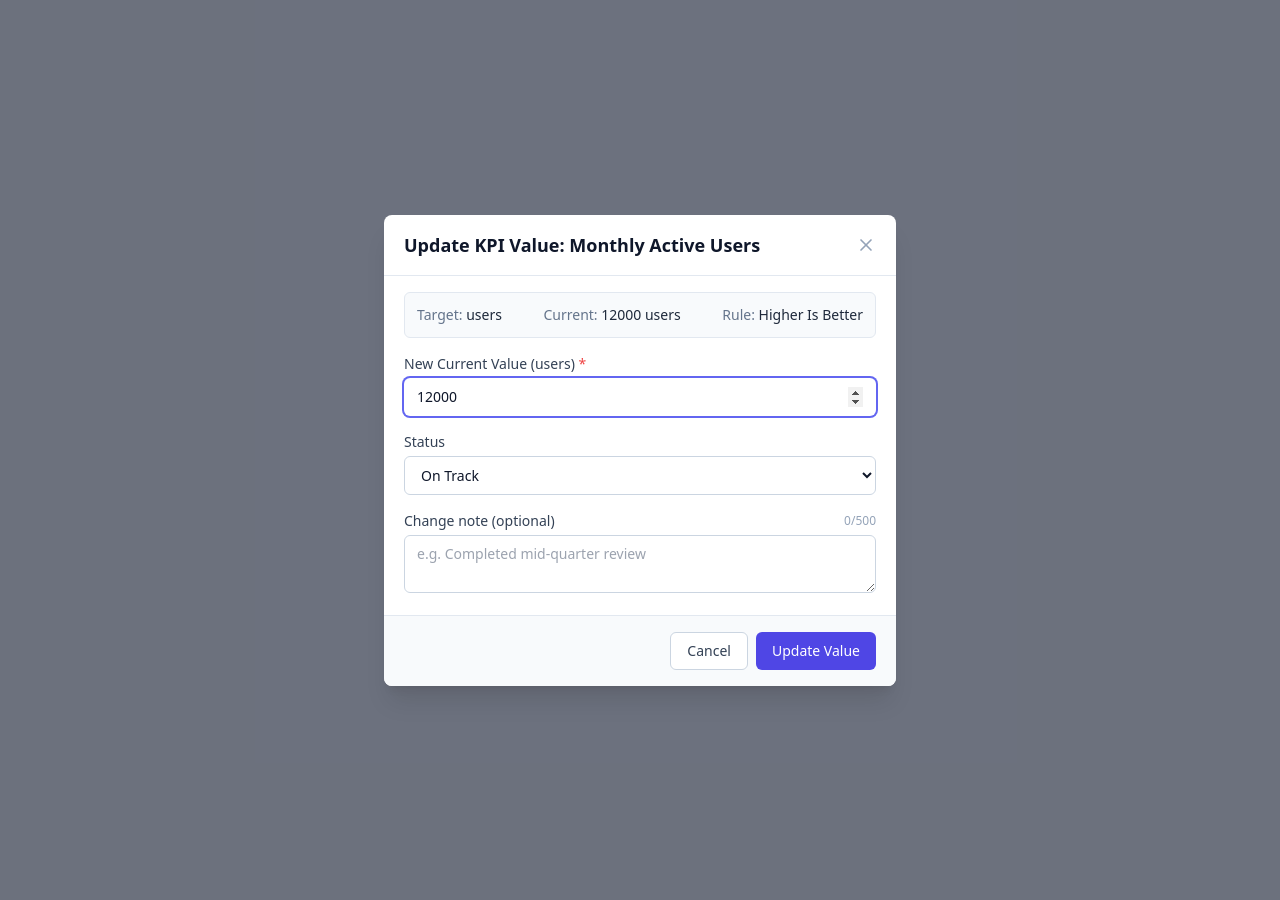
it: Department and KPI Modals › QuickValueModal › validates non-negative number input
Replace the text in the number field labelled "New Current Value (users) *" with "-15". click: (640, 396)
box: [404,378,876,416]
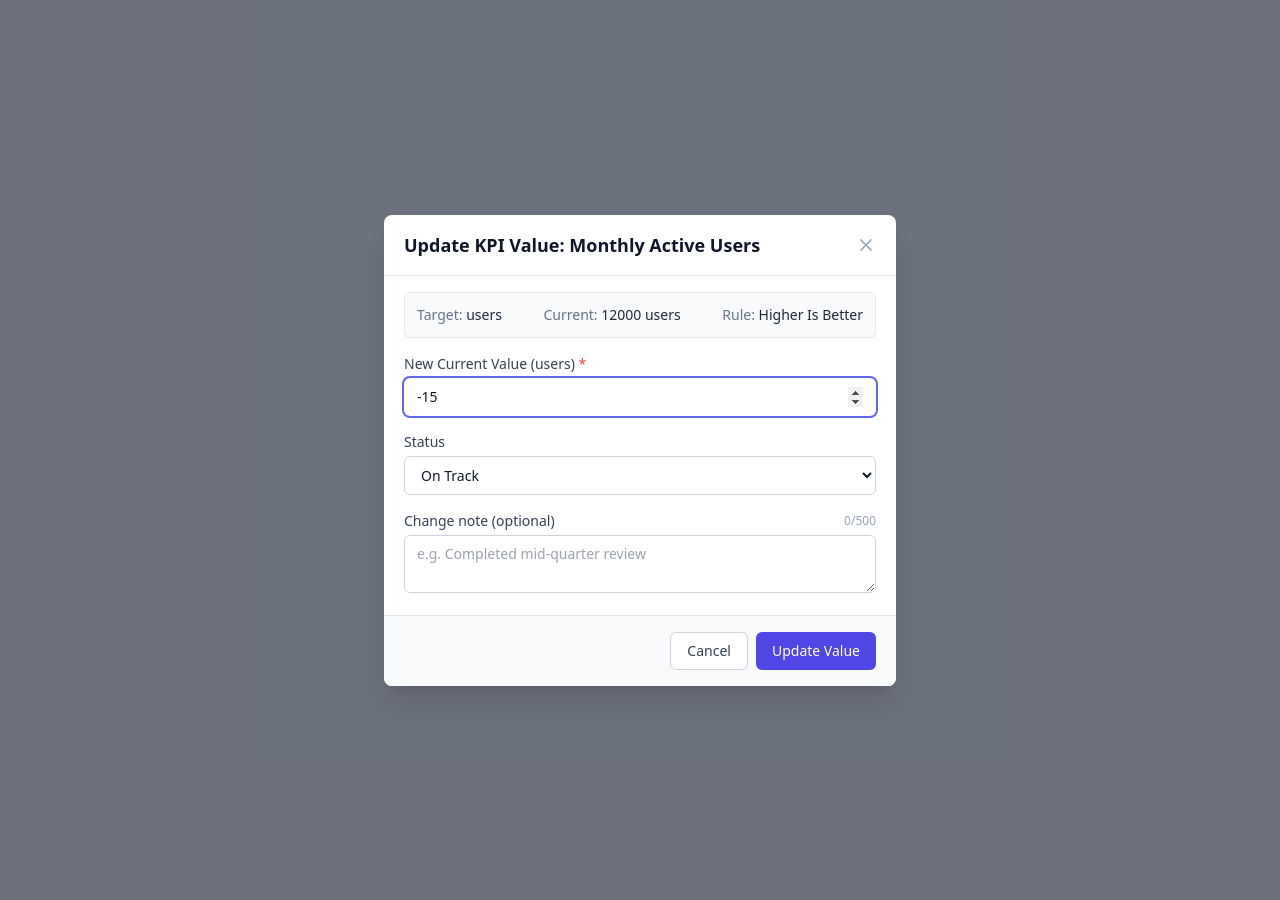
Click the button "Update Value". click: (816, 650)
box: [756,632,876,670]
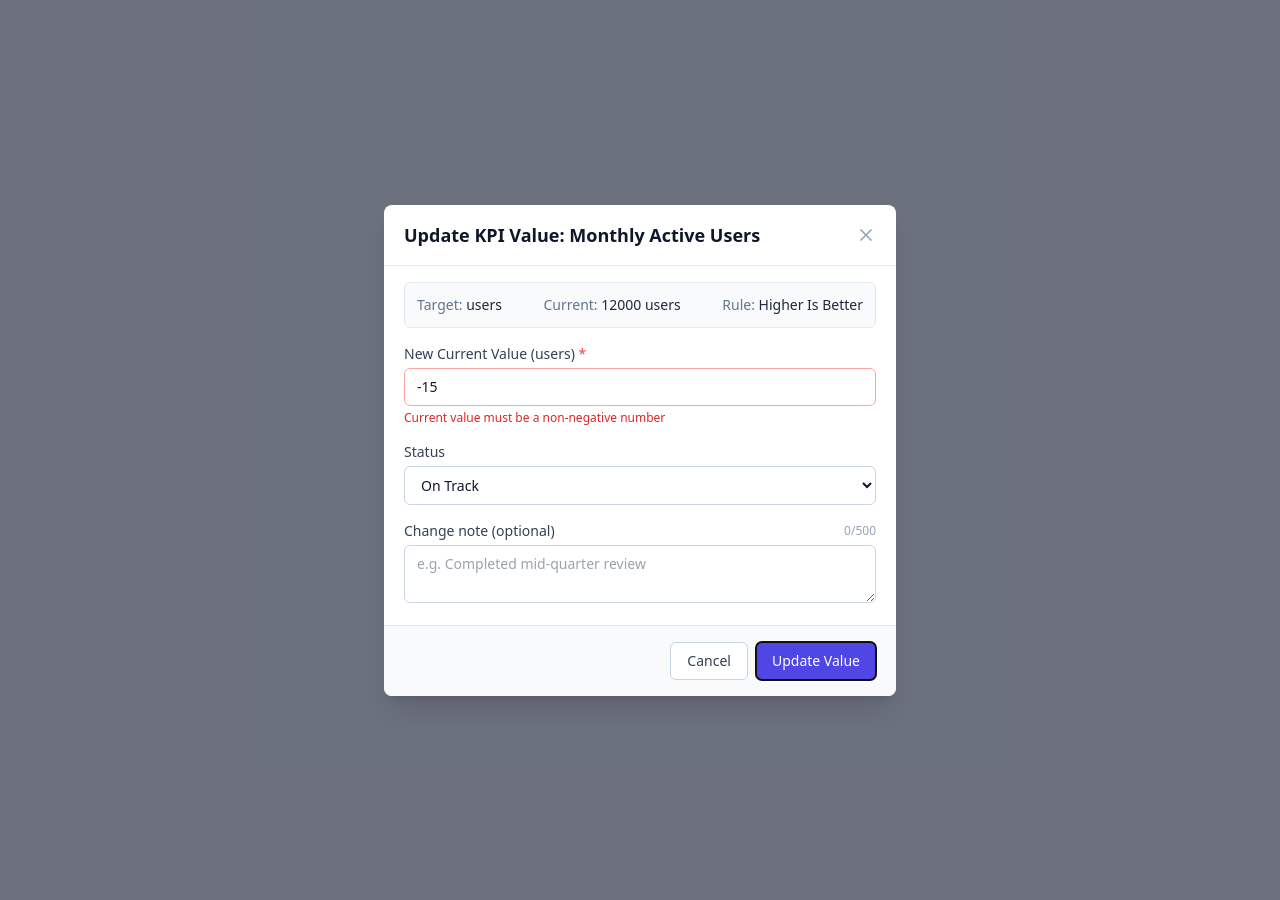
Expected: the text "Current value must be a non-negative number" is shown, [404,408,665,426]
